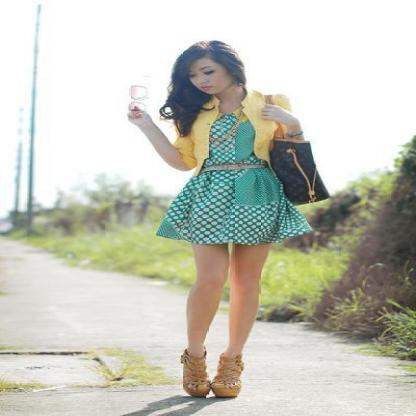bag: (262, 147, 311, 205)
dress: (156, 114, 312, 244)
jacket: (176, 92, 282, 174)
shoe: (181, 354, 243, 402)
